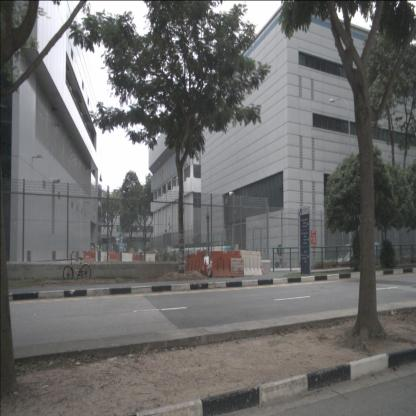movable_object-barrier: (210, 248, 243, 278), (238, 249, 262, 276), (185, 251, 207, 278), (83, 250, 96, 262), (96, 250, 107, 262), (122, 252, 132, 263), (109, 252, 119, 263), (133, 254, 145, 263), (145, 254, 156, 263)
movable_object-trafficcone: (204, 260, 208, 276), (260, 260, 264, 276)
vehicle-bicycle: (63, 250, 91, 282)
vehicle-car: (336, 241, 381, 271)
